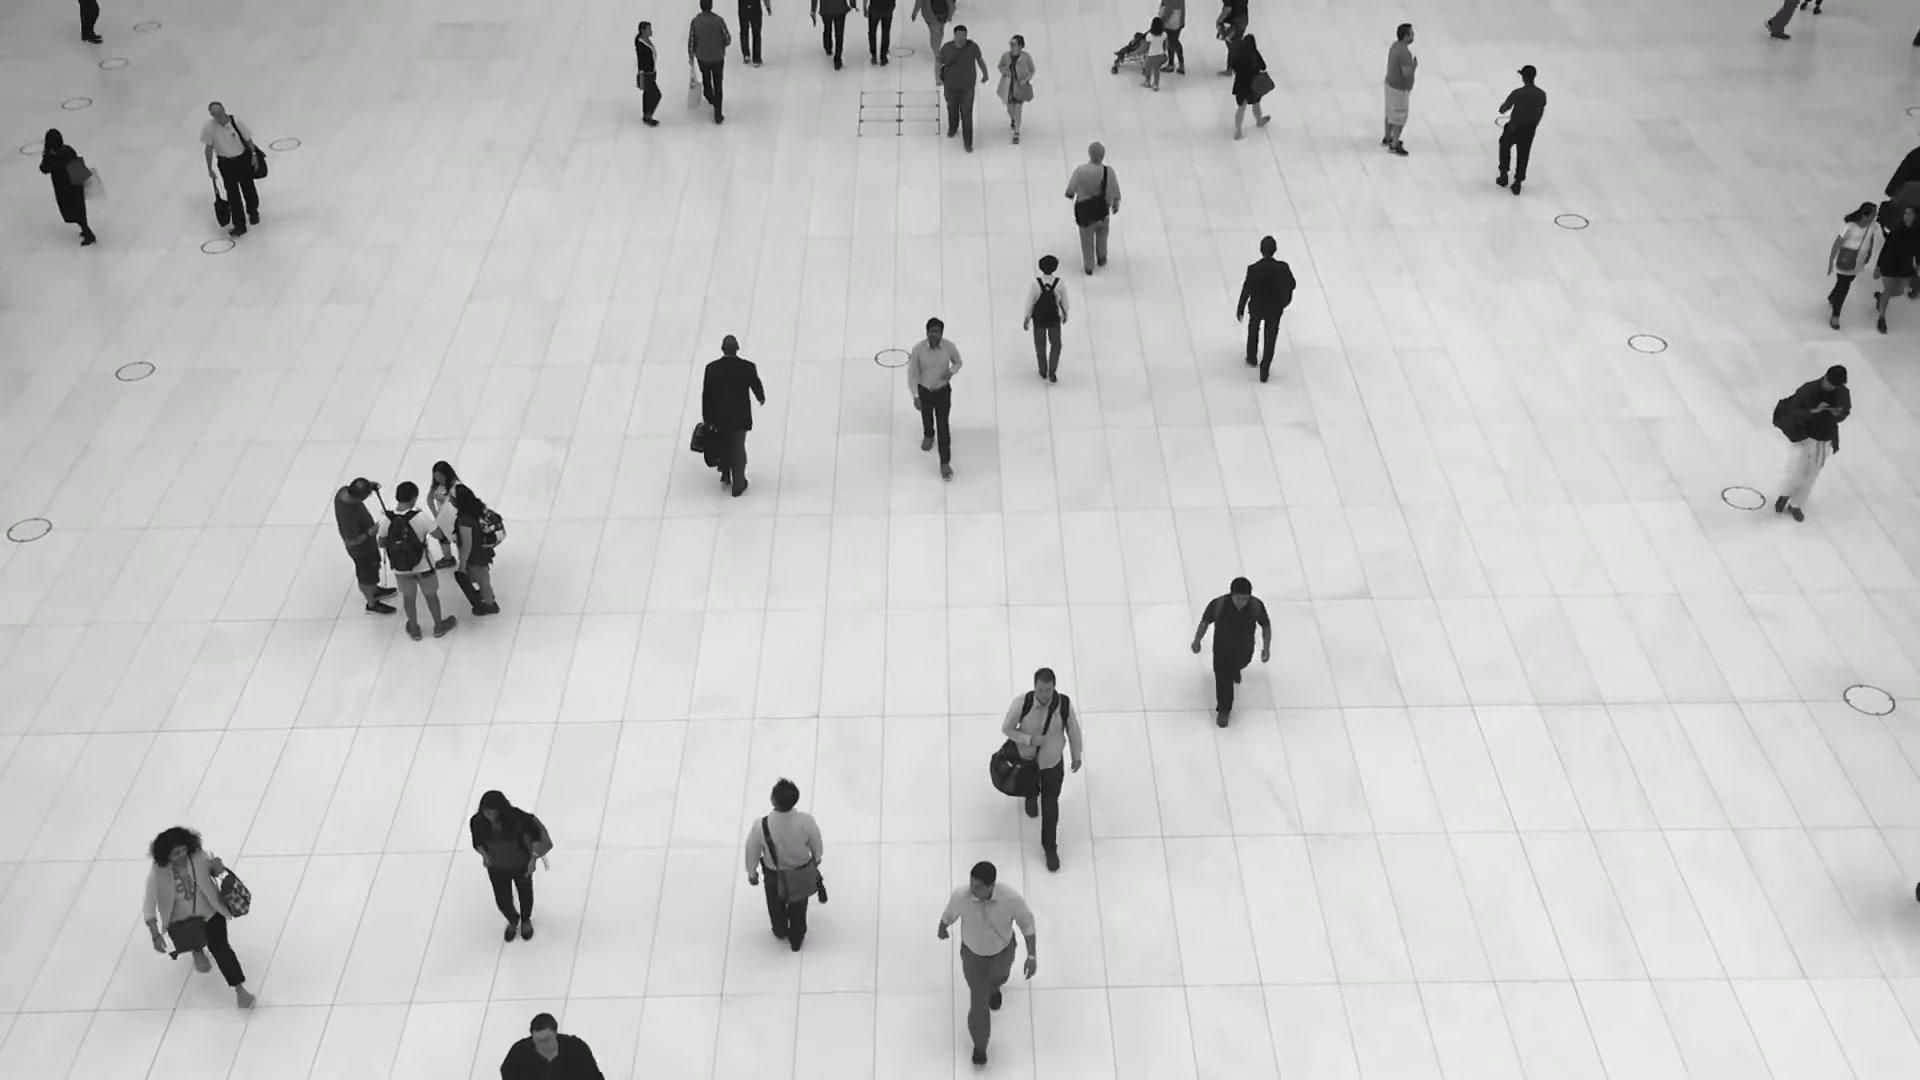person: (938, 855, 1039, 1051), (140, 823, 251, 1002), (1000, 662, 1082, 860), (745, 780, 827, 965), (377, 479, 459, 639), (1774, 365, 1850, 532), (469, 790, 541, 959), (1195, 571, 1273, 724), (698, 336, 768, 503), (334, 469, 400, 613), (904, 313, 963, 470), (1235, 235, 1296, 382), (198, 100, 260, 231), (1065, 142, 1123, 279), (498, 1011, 605, 1079), (449, 483, 501, 614), (932, 22, 988, 148), (39, 127, 96, 248), (1025, 257, 1073, 397), (1496, 64, 1545, 196), (1826, 200, 1878, 327), (1871, 203, 1919, 337), (686, 0, 731, 120), (1380, 22, 1418, 156), (625, 21, 672, 125), (995, 34, 1036, 146), (1227, 32, 1268, 138), (425, 459, 462, 580), (1141, 16, 1166, 91)
